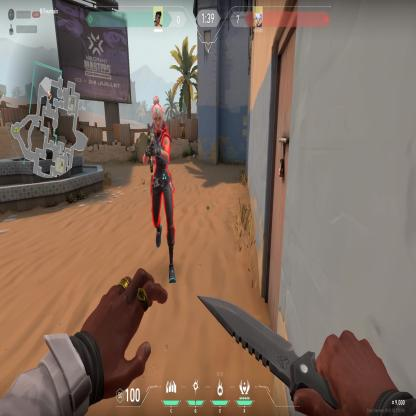enemy: (144, 104, 178, 284)
